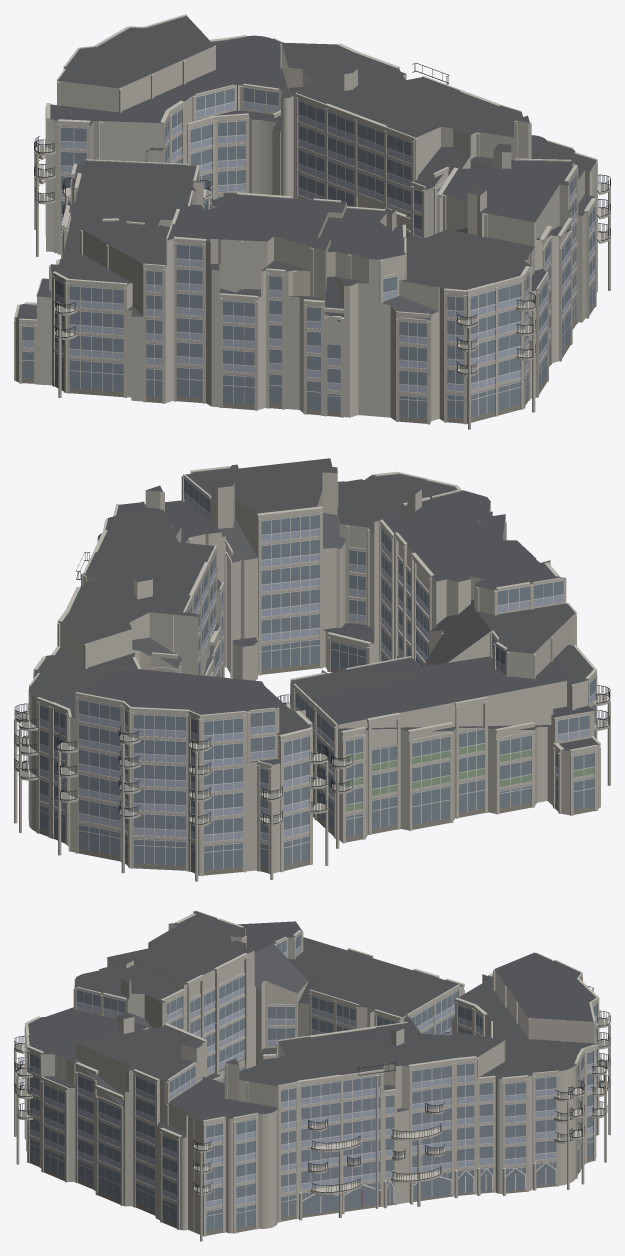
The model's file is pentagon.glb.
The picture shows the model from 3 angles, top to bottom: view 1: azimuth 30°, elevation 25°; view 2: azimuth 150°, elevation 25°; view 3: azimuth 270°, elevation 25°; orthographic projection. The views are drawn at different scales.
Visible parts, largest first — view 1: pentagon; view 2: pentagon; view 3: pentagon.
Part boxes in pixels (left/top/right/bottom): pentagon: left=14, top=14, right=610, bottom=429; pentagon: left=14, top=458, right=610, bottom=881; pentagon: left=14, top=910, right=610, bottom=1241.
Size of the model in its own units: 63.7 by 19.61 by 70.23.
